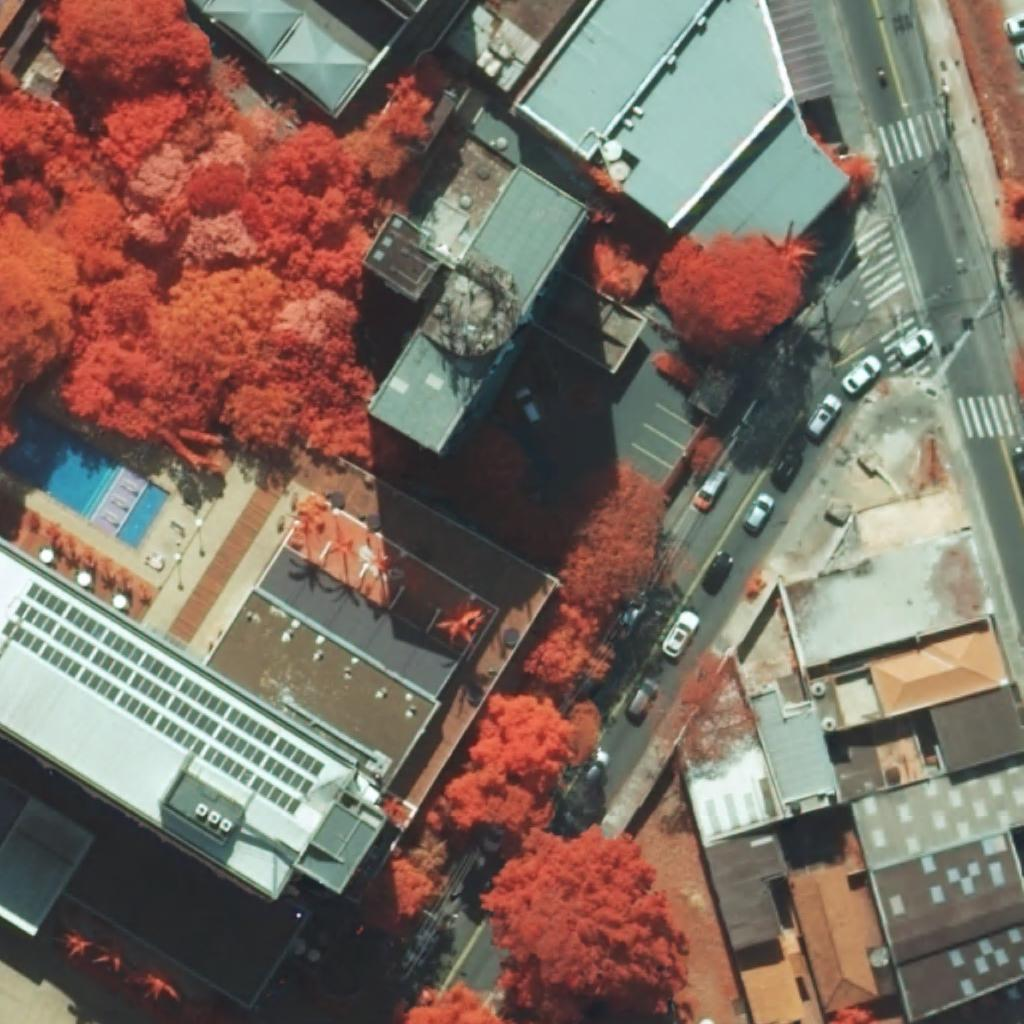pool: (0, 409, 124, 521), (115, 481, 171, 547)
